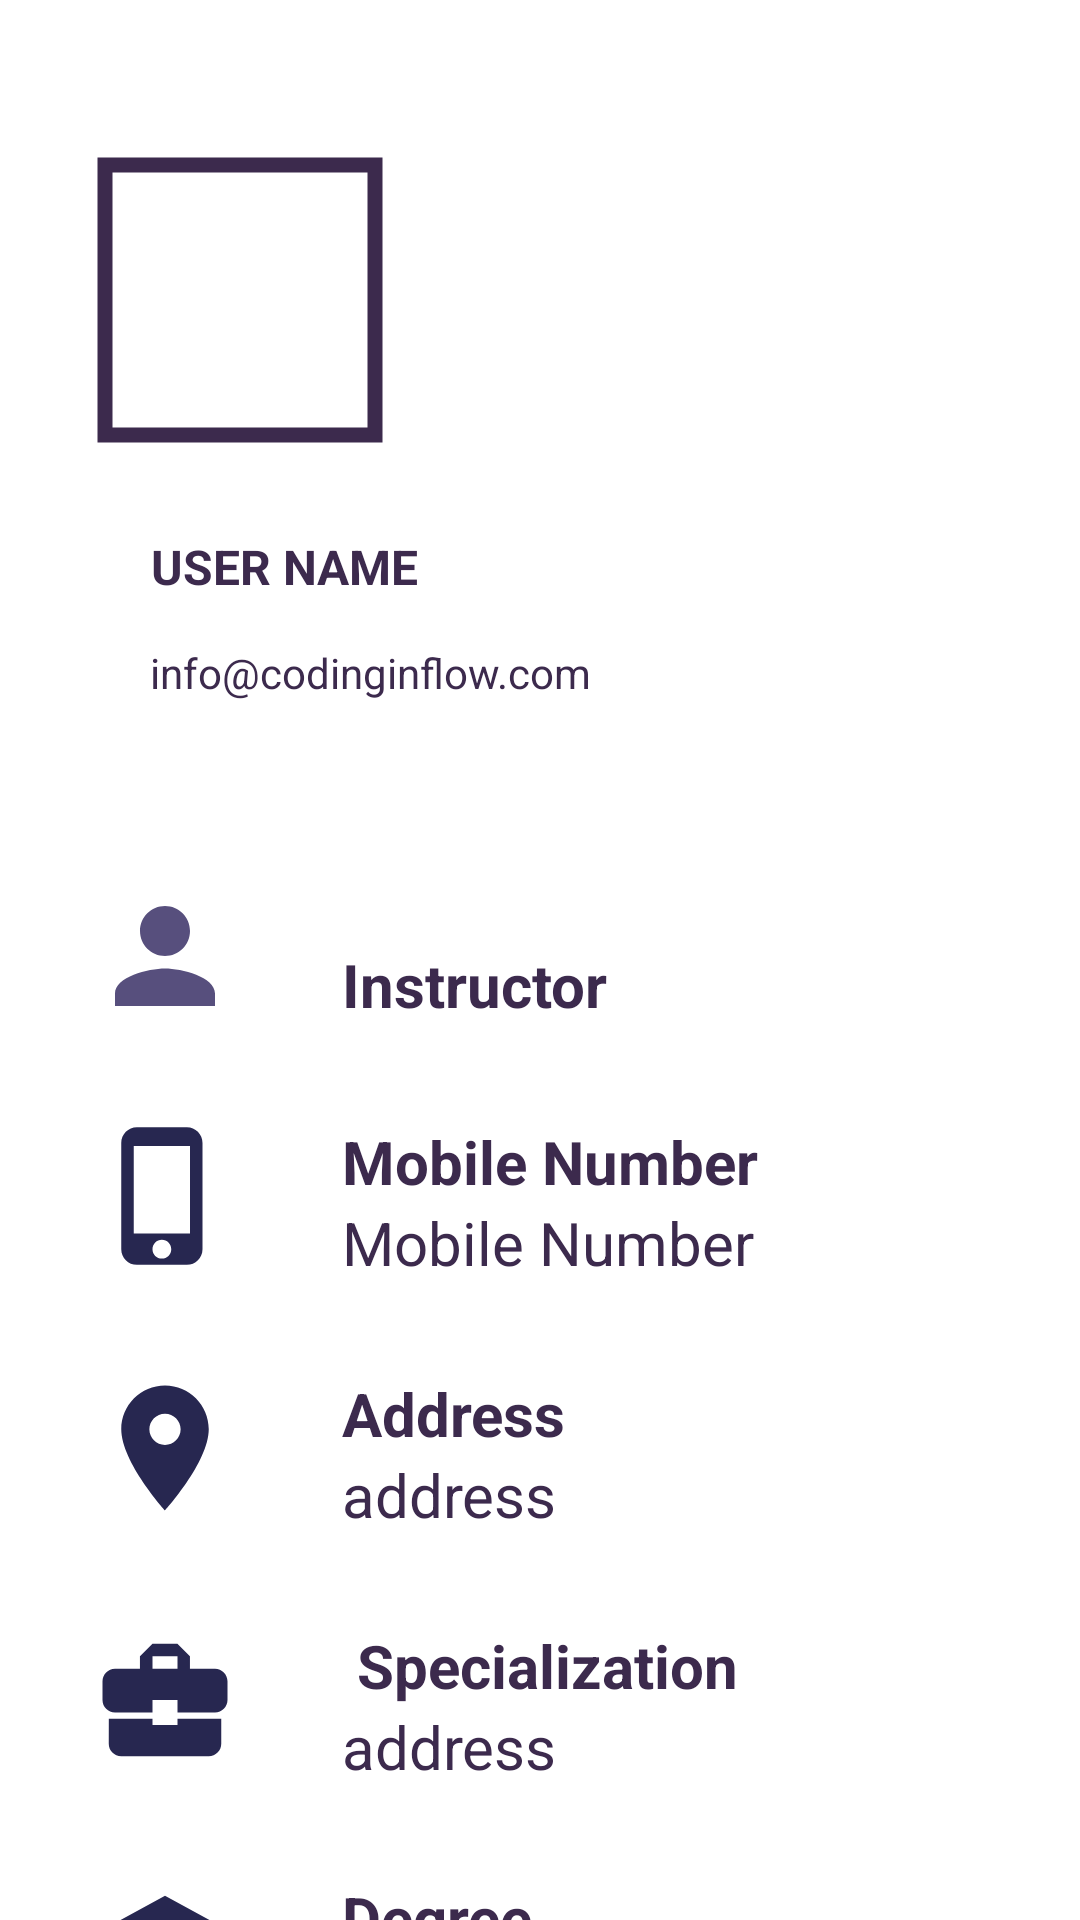

Screen size 1080×1920. Icon name, then its center in pixels as point (x, y):
person: point (165, 956)
phon: point (162, 1196)
